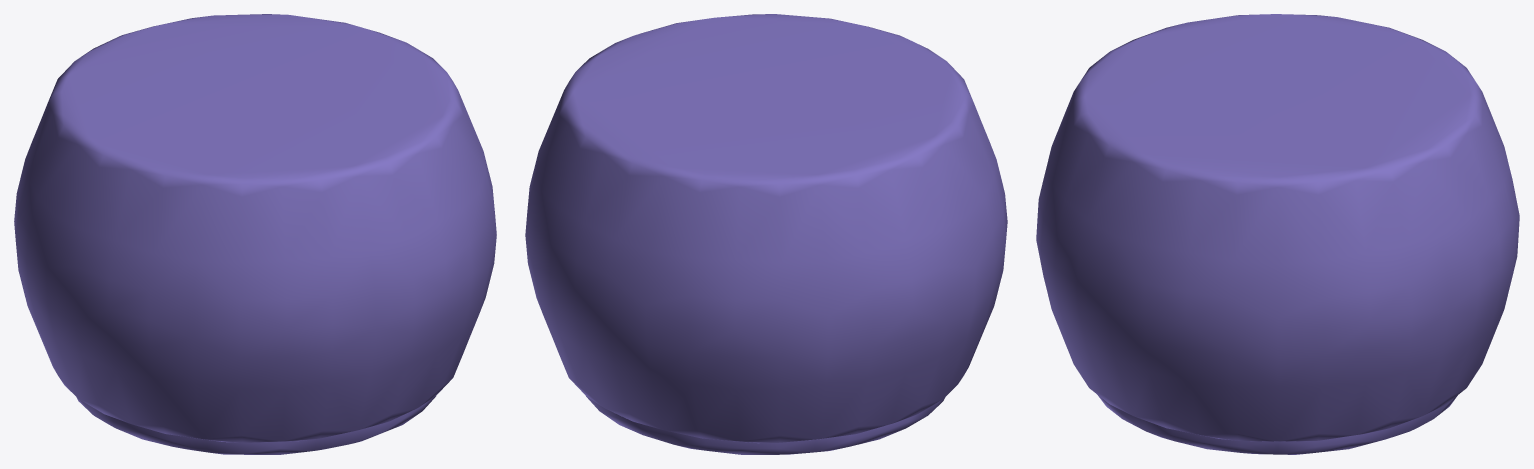
The model's file is stool_05_purple.fbx.
3 views of the same model, side by side, from view 1: azimuth 30°, elevation 25°; view 2: azimuth 150°, elevation 25°; view 3: azimuth 270°, elevation 25° (orthographic).
Visible parts, largest first — view 1: stool_05_purple; view 2: stool_05_purple; view 3: stool_05_purple.
Boxes of the visible parts, x1,y1,x2,y2 form: stool_05_purple: (14,14,496,454); stool_05_purple: (525,14,1007,454); stool_05_purple: (1036,14,1519,454).
Bounding box in the file's own units: 74.92 × 48.55 × 74.92.
2 materials, 2 textured.
